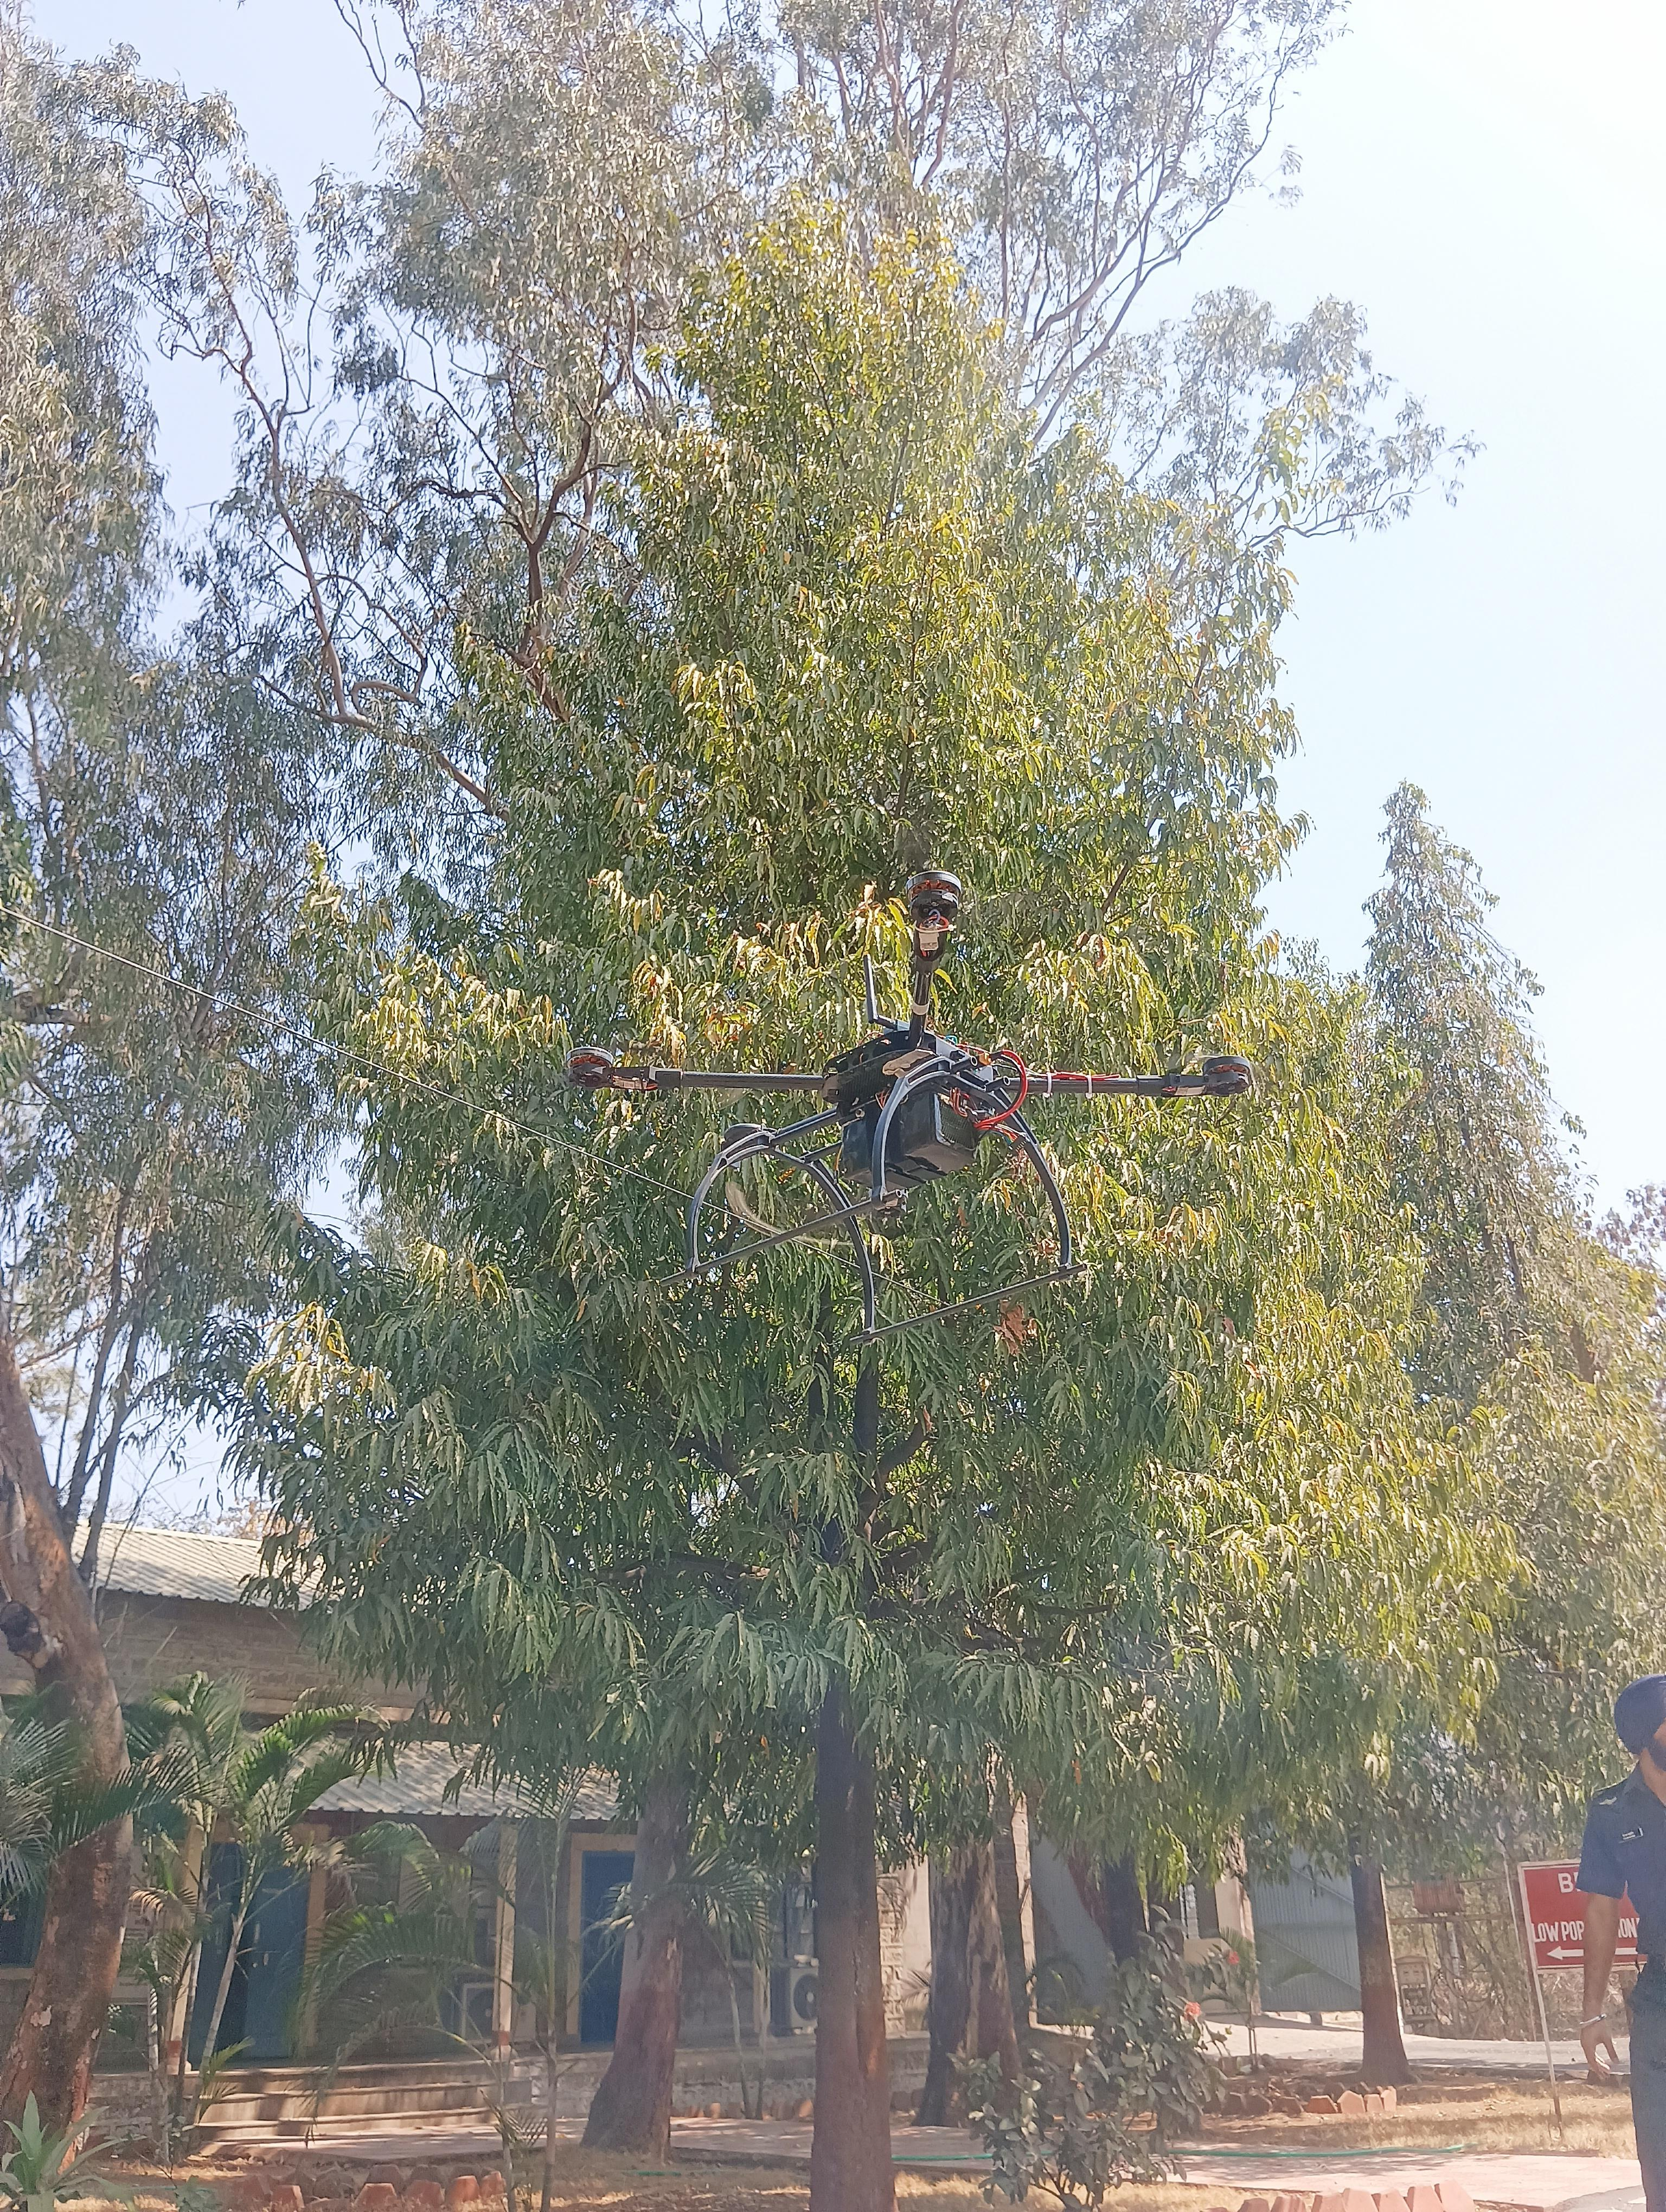drone: (478, 815, 1328, 1348)
